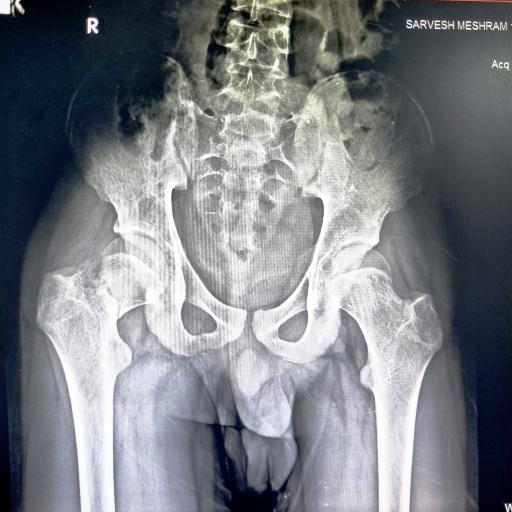neck: (37, 258, 132, 439), (98, 234, 169, 320)
normal: (326, 246, 442, 438)
